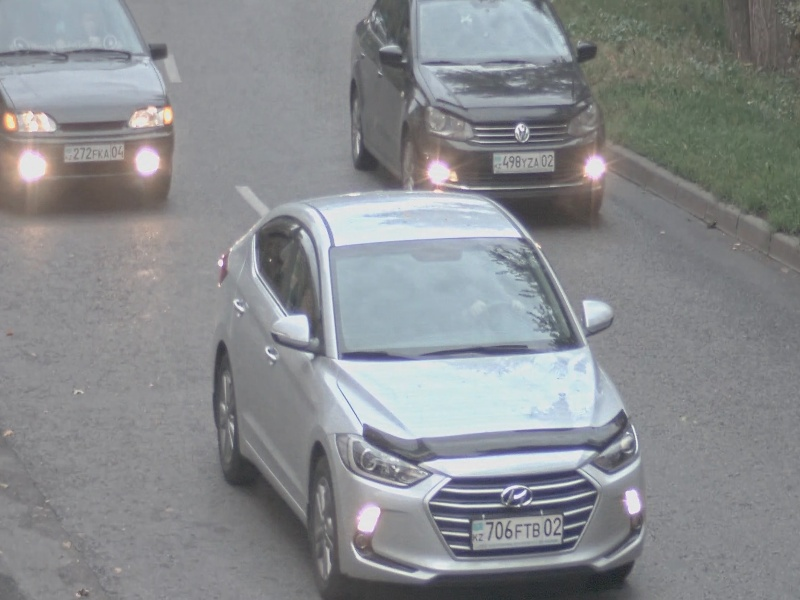plate: (491, 149, 556, 175), (63, 142, 125, 164)
